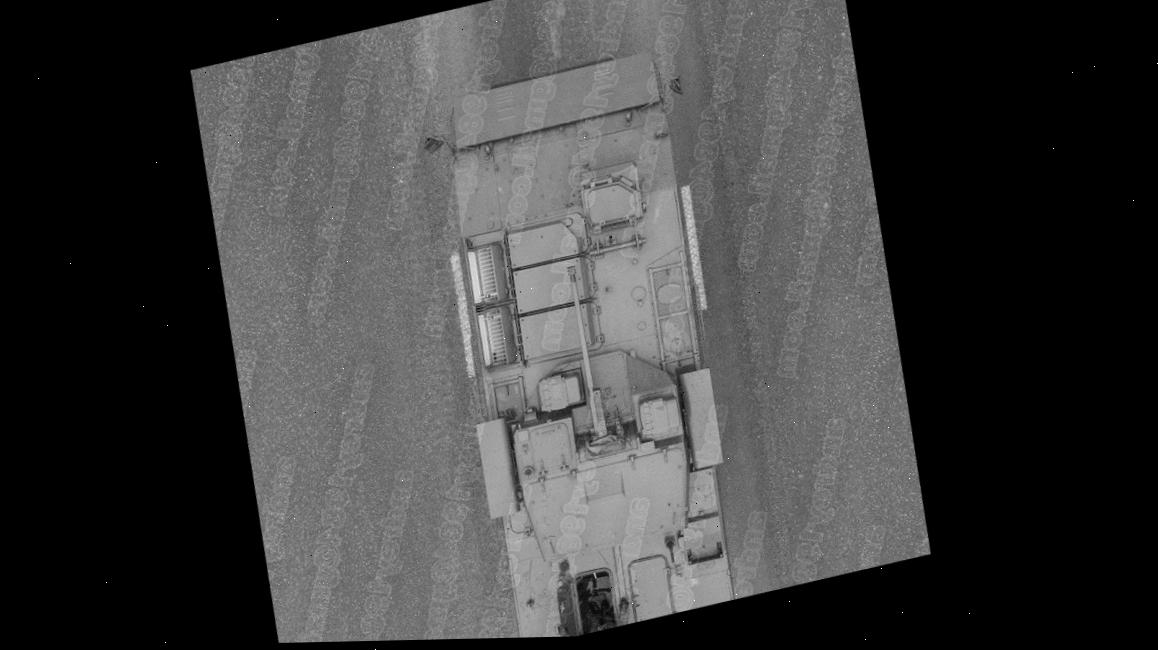armored_car: (400, 38, 779, 640)
